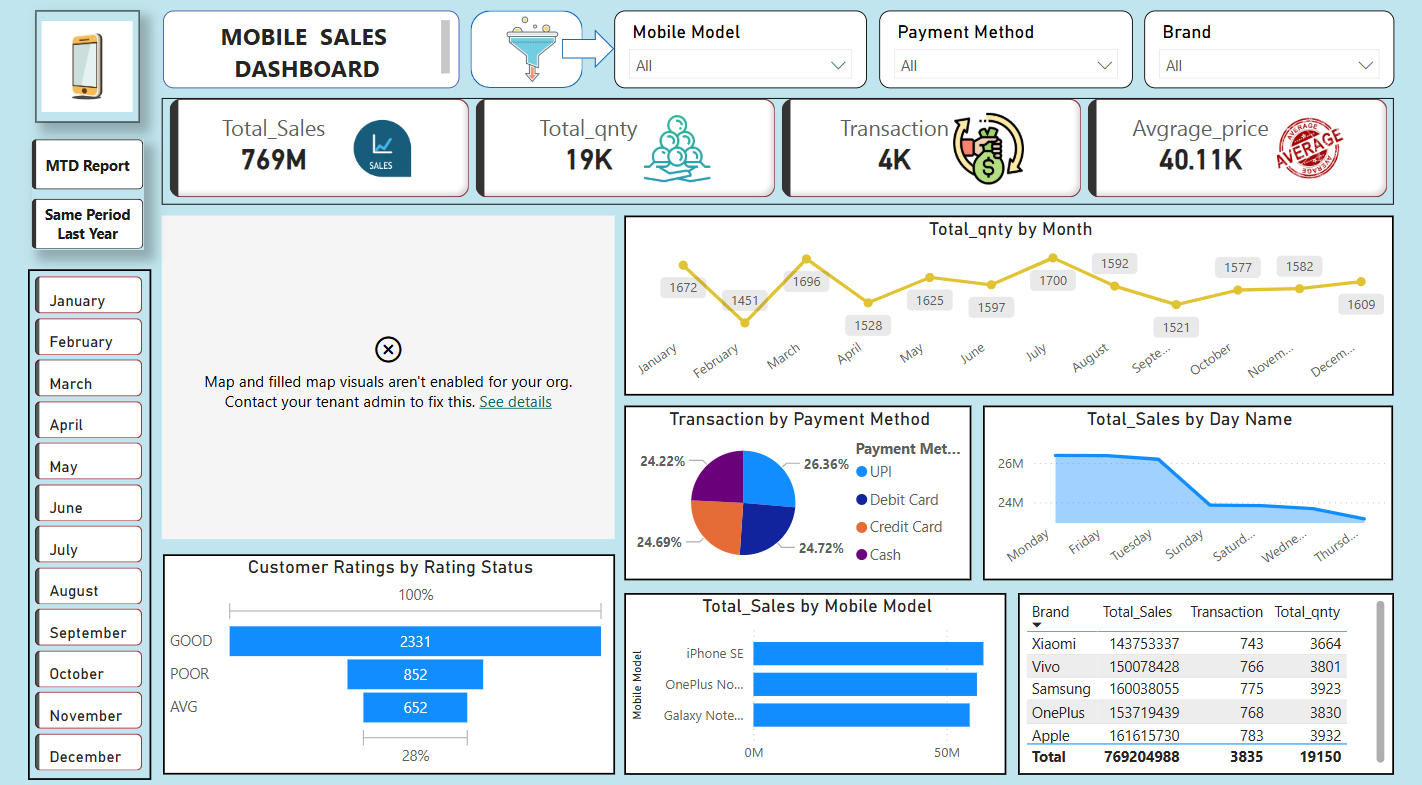

The page's visual inventory and layout, read from the dashboard file:
{"tool":"powerbi","page":{"name":"Dashboard","canvas":[1280,720],"ordinal":0},"visuals":[{"type":"advancedSlicerVisual","fields":{"Values":["Custom_Calendar.Date.Variation.Date Hierarchy.Month"]},"box":[13.4,248.2,112.5,467.1],"z":0},{"type":"cardVisual","fields":{"Data":["Sales_Data.Total_Sales","Sales_Data.Total_qnty","Sales_Data.Transaction","Sales_Data.Avgrage_price"]},"box":[135.7,91.7,1127.5,97.8],"z":1000},{"type":"slicer","fields":{"Values":["Sales_Data.Mobile Model"]},"box":[550.3,11,231.1,70.9],"z":2000},{"type":"slicer","fields":{"Values":["Sales_Data.Payment Method"]},"box":[792.4,11,232.3,70.9],"z":3000},{"type":"shape","box":[418.2,11,102.7,70.9],"z":4000},{"type":"slicer","fields":{"Values":["Sales_Data.Brand"]},"box":[1034.5,11,228.7,70.9],"z":5000},{"type":"map","fields":{"Category":["Sales_Data.City"],"Size":["Sales_Data.Total_Sales"]},"box":[135.7,199.3,414.5,295.9],"z":6000},{"type":"image","box":[440.5,11,70,71.4],"z":7000},{"type":"shape","box":[502.2,28.8,48,35.7],"z":8000},{"type":"textbox","box":[137,11,271.5,70.9],"z":9000},{"type":"image","box":[20.8,11,95.4,102.7],"z":10000},{"type":"lineChart","fields":{"Category":["Custom_Calendar.Date.Variation.Date Hierarchy.Month"],"Y":["Sales_Data.Total_qnty"]},"box":[558.8,199.3,704.4,165.1],"z":11000},{"type":"funnel","title":"Customer Ratings by Rating Status","fields":{"Y":["CountNonNull(Sales_Data.Customer Ratings)"],"Category":["Sales_Data.Rating Status"]},"box":[137,508.7,413.3,201.8],"z":12000},{"type":"pieChart","fields":{"Y":["Sales_Data.Transaction"],"Category":["Sales_Data.Payment Method"]},"box":[558.8,373,317.9,160.2],"z":13000},{"type":"clusteredBarChart","fields":{"Y":["Sales_Data.Total_Sales"],"Category":["Sales_Data.Mobile Model"]},"box":[558.8,544.2,349.7,166.3],"z":14000},{"type":"areaChart","fields":{"Y":["Sales_Data.Total_Sales"],"Category":["Custom_Calendar.Day Name"]},"box":[887.8,373,375.4,160.2],"z":15000},{"type":"tableEx","fields":{"Values":["Sales_Data.Brand","Sales_Data.Total_Sales","Sales_Data.Transaction","Sales_Data.Total_qnty"]},"box":[919.6,544.2,343.6,166.3],"z":16000},{"type":"pageNavigator","box":[17.1,129.6,102.7,101.5],"z":17000}]}

Visuals, with their boxes in screenshot pixels (x1, y1, x2, y2), scaled from the page's 1280x720 canvas onto the 1422x785 screenshot:
advancedSlicerVisual - Custom_Calendar.Date.Variation.Date Hierarchy.Month: bbox=(15, 271, 140, 780)
cardVisual - Sales_Data.Total_Sales x Sales_Data.Total_qnty: bbox=(151, 100, 1403, 207)
slicer - Sales_Data.Mobile Model: bbox=(611, 12, 868, 89)
slicer - Sales_Data.Payment Method: bbox=(880, 12, 1138, 89)
shape: bbox=(465, 12, 579, 89)
slicer - Sales_Data.Brand: bbox=(1149, 12, 1403, 89)
map - Sales_Data.City x Sales_Data.Total_Sales: bbox=(151, 217, 611, 540)
image: bbox=(489, 12, 567, 90)
shape: bbox=(558, 31, 611, 70)
textbox: bbox=(152, 12, 454, 89)
image: bbox=(23, 12, 129, 124)
lineChart - Custom_Calendar.Date.Variation.Date Hierarchy.Month x Sales_Data.Total_qnty: bbox=(621, 217, 1403, 397)
"Customer Ratings by Rating Status" funnel: bbox=(152, 555, 611, 775)
pieChart - Sales_Data.Transaction x Sales_Data.Payment Method: bbox=(621, 407, 974, 581)
clusteredBarChart - Sales_Data.Total_Sales x Sales_Data.Mobile Model: bbox=(621, 593, 1009, 775)
areaChart - Sales_Data.Total_Sales x Custom_Calendar.Day Name: bbox=(986, 407, 1403, 581)
tableEx - Sales_Data.Brand x Sales_Data.Total_Sales: bbox=(1022, 593, 1403, 775)
pageNavigator: bbox=(19, 141, 133, 252)
